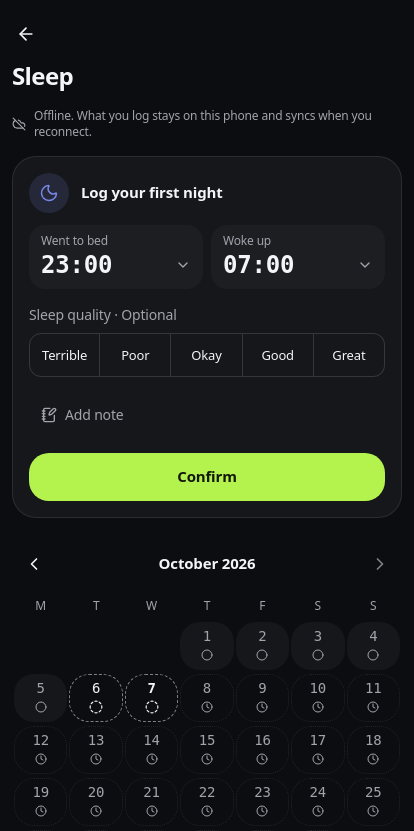
Test: SleepScreen › says when a month is out of reach offline
The image size is (414, 831).
Click the button named "Previous month". click: (34, 564)
box: [12,542,56,586]
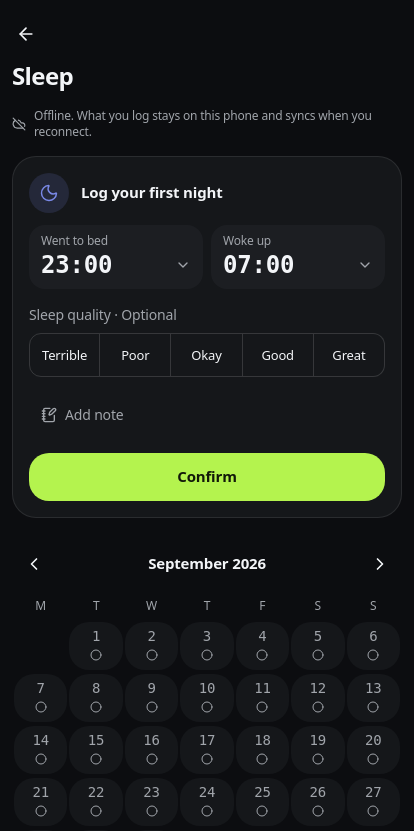
Click the button named "Previous month". click: (34, 564)
box: [12,542,56,586]
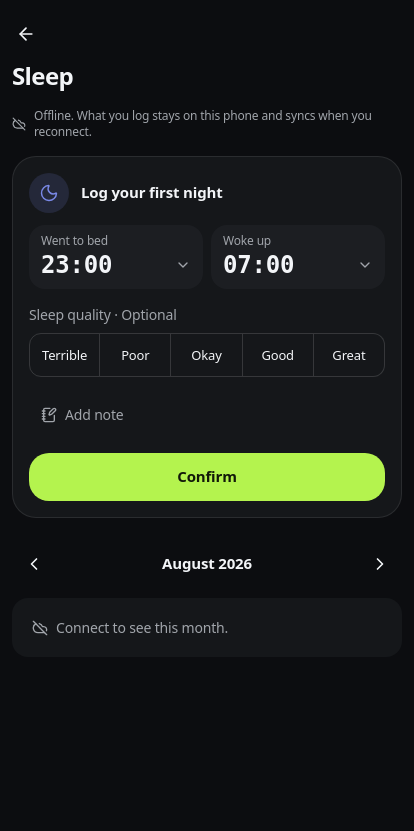
Expected: the text "Connect to see this month." is shown, [12,598,402,657]
